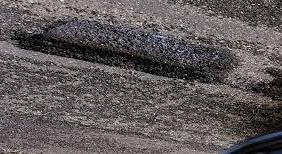pothole: (22, 10, 244, 97)
